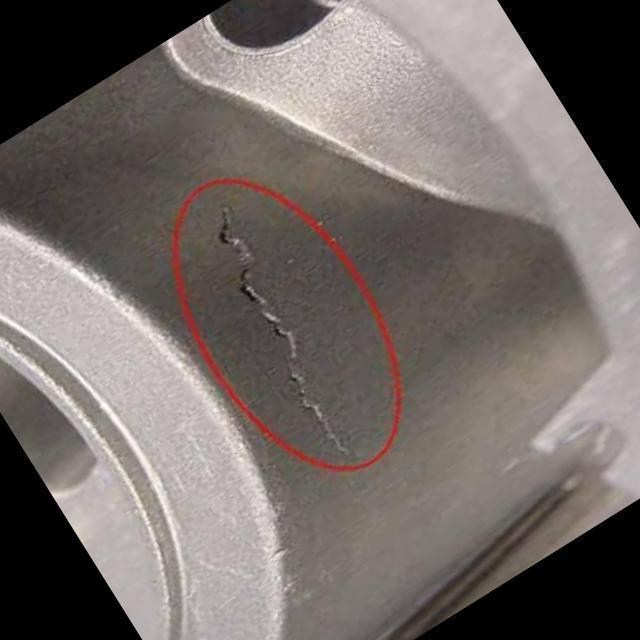defect: (212, 197, 358, 462)
